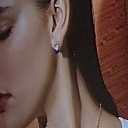head: (0, 0, 127, 127)
